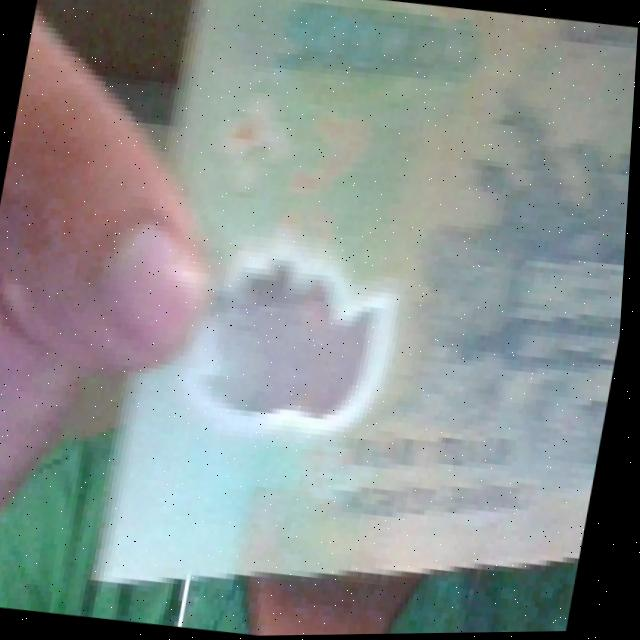500 000 VND: (78, 0, 640, 639)
